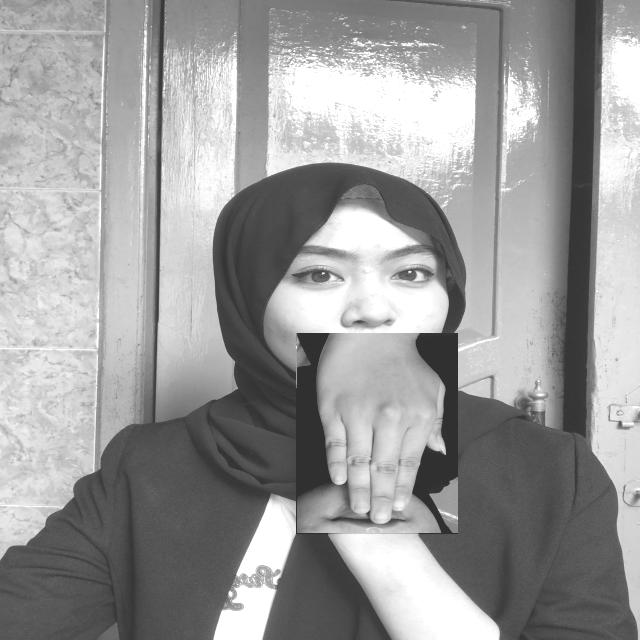ganteng: (296, 334, 458, 536)
